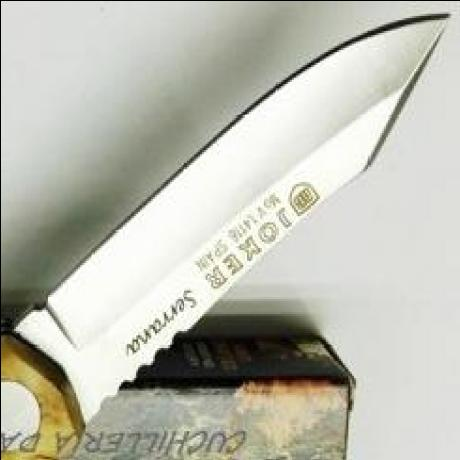weapon: (35, 12, 454, 420)
